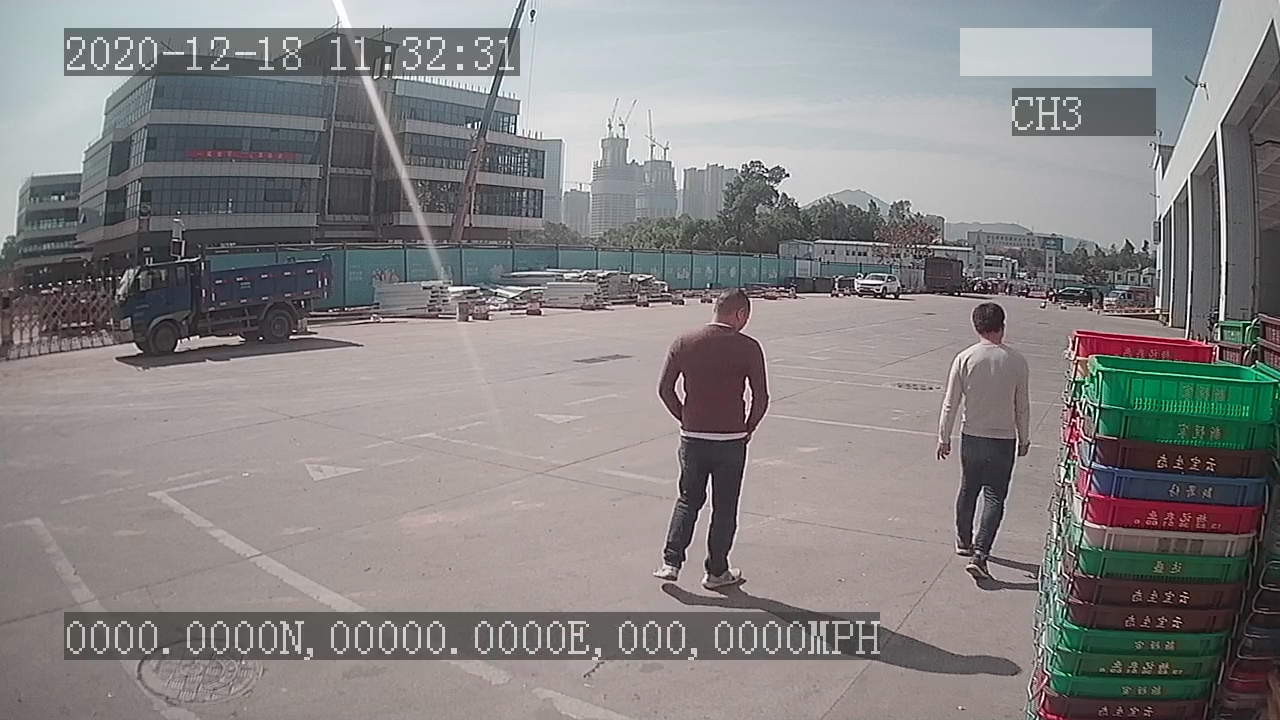person: (651, 286, 769, 590), (936, 299, 1033, 582)
